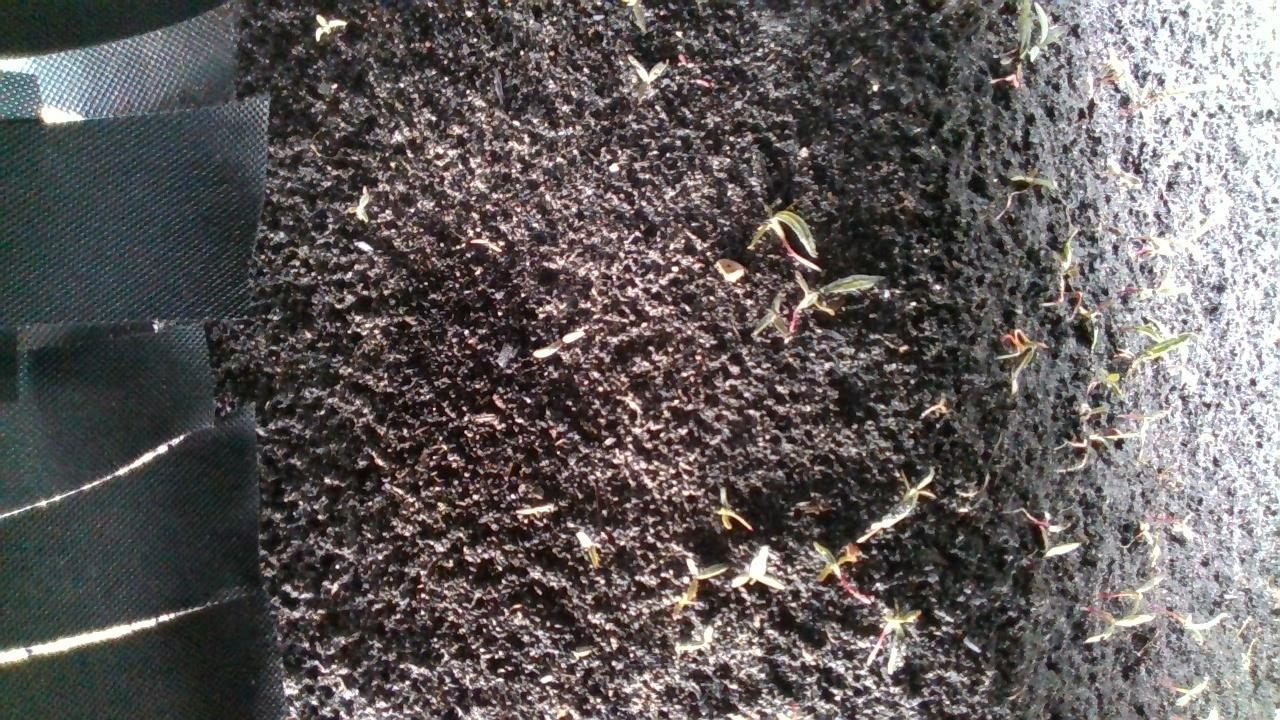weed: (998, 324, 1051, 384), (535, 325, 602, 362), (622, 55, 665, 99), (349, 189, 379, 223)
